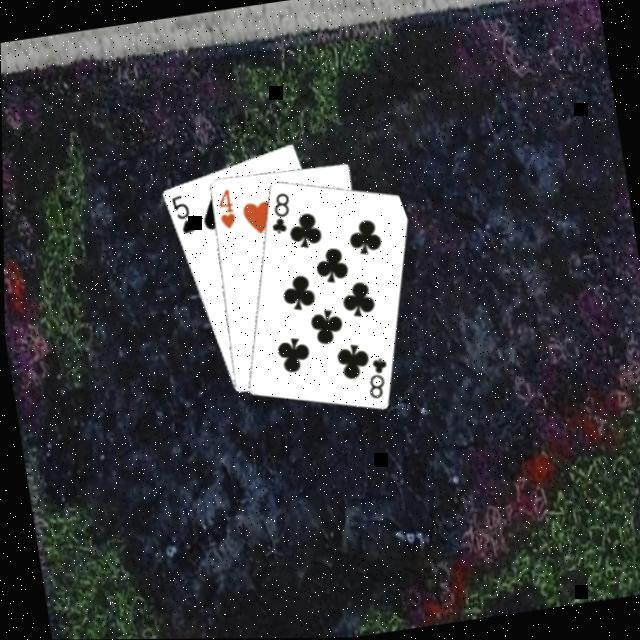4H: (210, 185, 237, 231)
5S: (164, 188, 196, 237)
8C: (260, 187, 295, 236), (357, 352, 392, 401)
